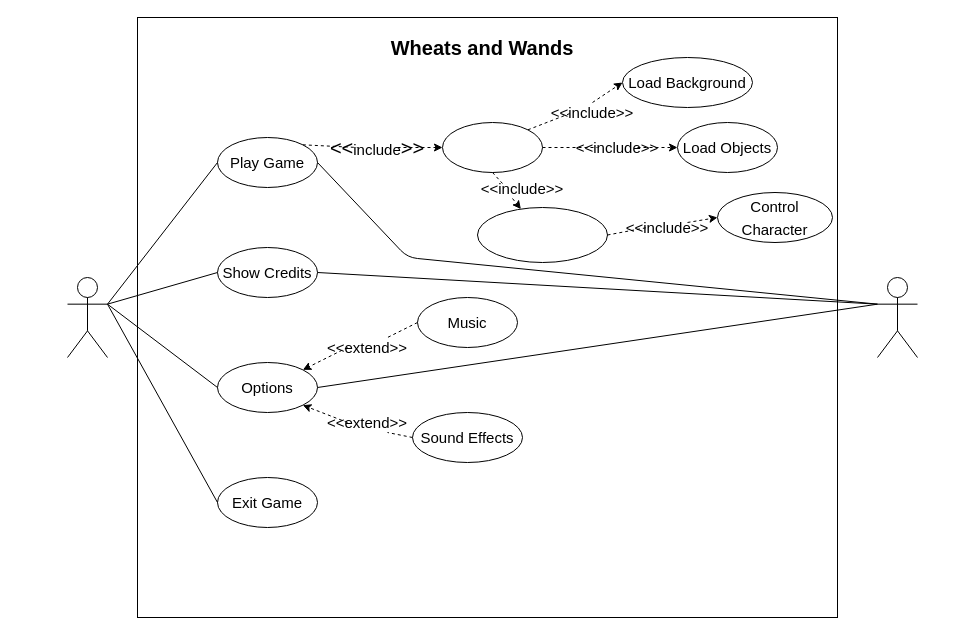
Image size: 974x635. Some labels were removed from this diagram. Here are the shapes that lost their labels. From the top down, the centre of each, then its label:
point 492,147: Select Level
point 542,234: Load Character Sprite
point 87,317: Player
point 897,317: System
